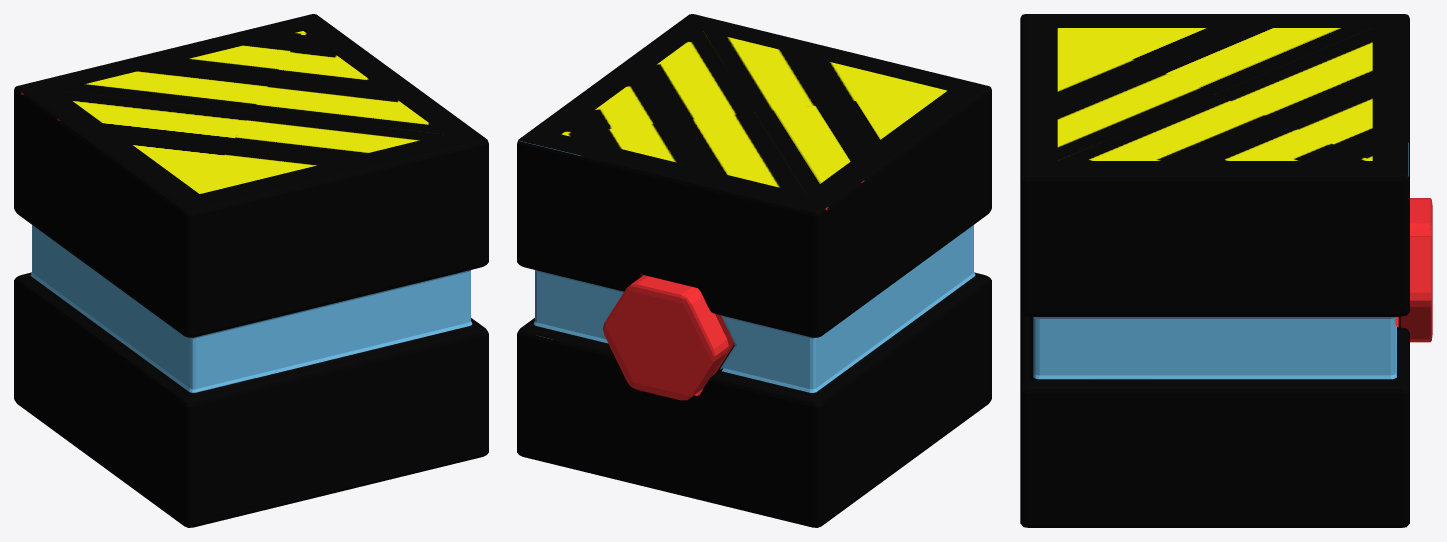
Rendered from GhostbaseTrap.fbx.
The picture shows the model from 3 angles, left to right: view 1: azimuth 30°, elevation 25°; view 2: azimuth 150°, elevation 25°; view 3: azimuth 270°, elevation 25°; orthographic projection. The views are drawn at different scales.
Visible parts, largest first — view 1: Cube.004; view 2: Cube.004; view 3: Cube.004.
Part boxes in pixels (x1,y1,x2,y2): Cube.004: (14, 14, 488, 527); Cube.004: (517, 14, 991, 527); Cube.004: (1020, 14, 1432, 527).
Size of the model in its own units: 200 by 200 by 212.
Materials: 1 (1 with a texture image).
